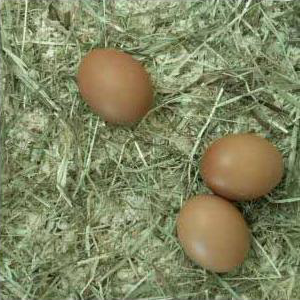egg: (177, 193, 252, 274), (201, 133, 285, 201), (80, 50, 153, 124)
